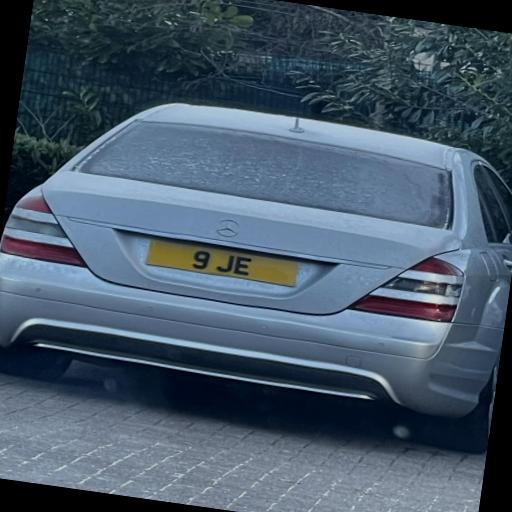numberplates: (147, 241, 298, 286)
